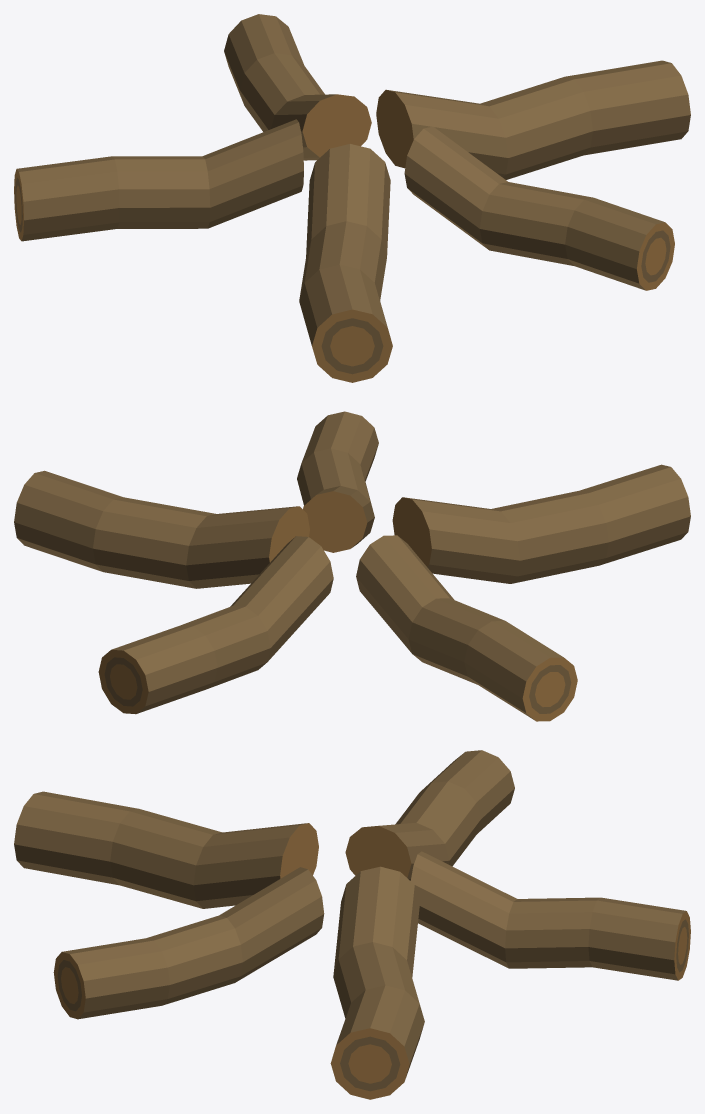
The model's file is CampFire1.fbx.
The picture shows the model from 3 angles, top to bottom: view 1: azimuth 30°, elevation 25°; view 2: azimuth 150°, elevation 25°; view 3: azimuth 270°, elevation 25°; orthographic projection. The views are drawn at different scales.
Parts seen in each view (by area): view 1: CampFire1; view 2: CampFire1; view 3: CampFire1.
Boxes of the visible parts, bbox=[...] form: CampFire1: bbox=[14, 14, 690, 382]; CampFire1: bbox=[14, 411, 690, 721]; CampFire1: bbox=[14, 750, 690, 1099].
Bounding box in the file's own units: 2.82 × 0.4989 × 2.79.
